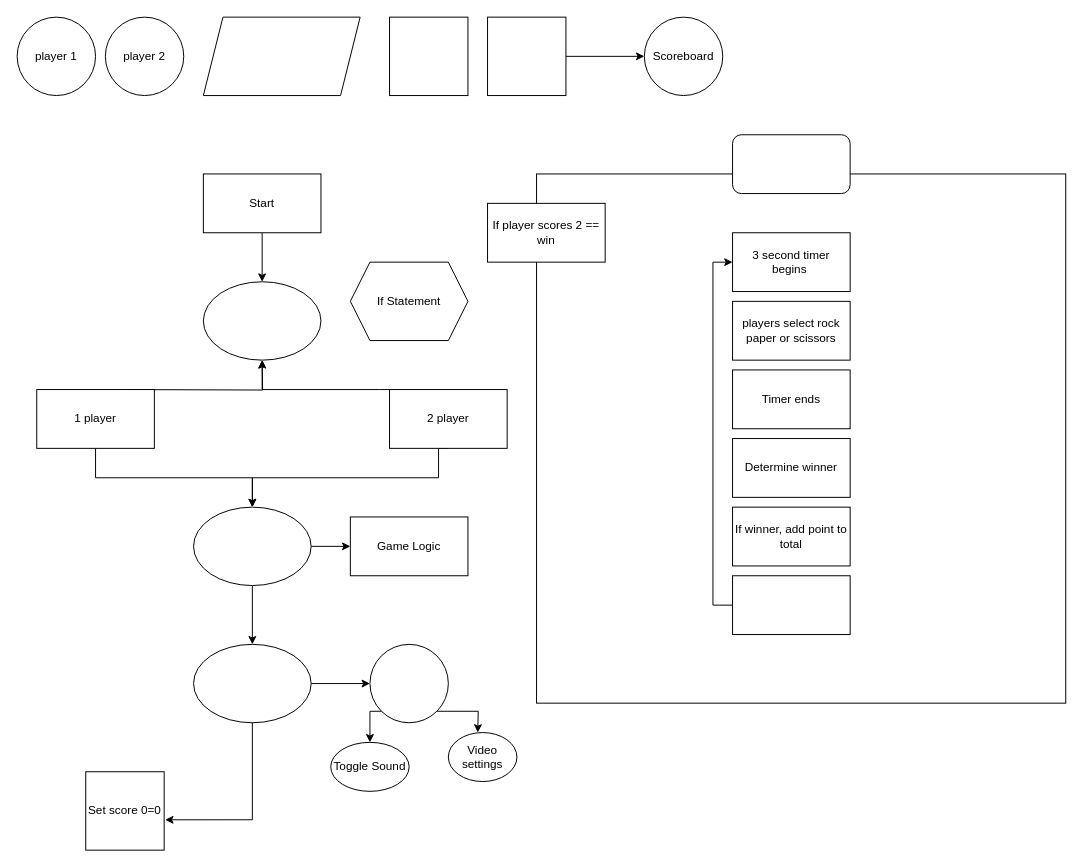
Some shapes in this 1083 by 867 pixel diagram are drawn without their labels. The centre of each missing label's shape, as x and y in pixels:
"Press any key to begin.. ctrl for settings": (252,683)
Adjust score: (791,605)
Gameworld == recess: (281,56)
Hands: (428,56)
Rules Screen: (252,546)
Scorekeeper: (526,56)
select # of players: (261,320)
Settings: (408,683)
While Loop: (791,164)
